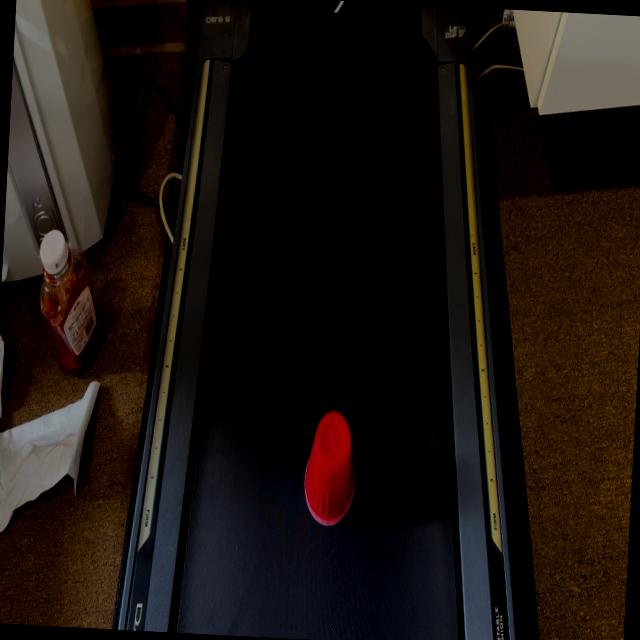Recycle: (299, 408, 361, 536)
